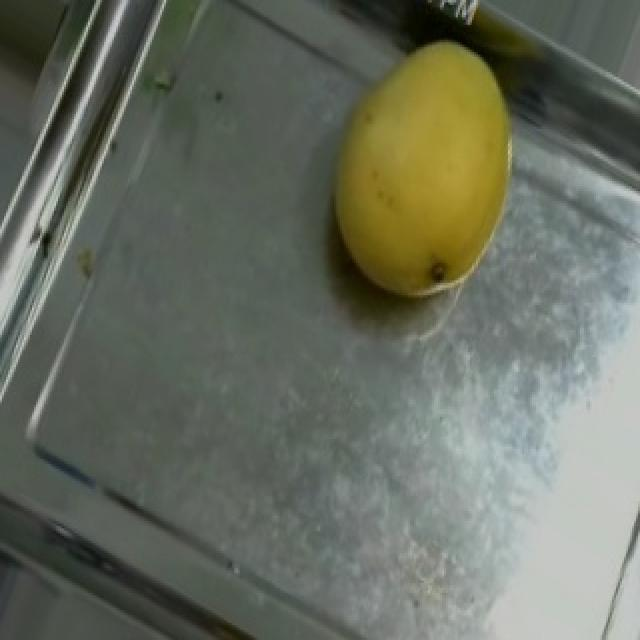fruit: (276, 7, 572, 340)
